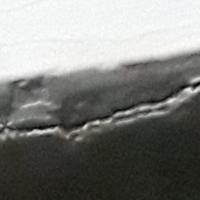crack: (0, 79, 199, 171)
